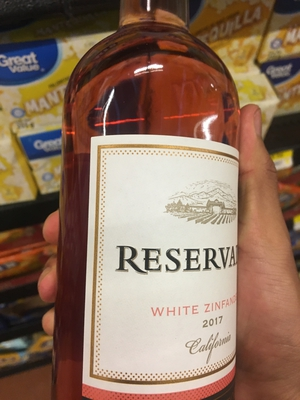reservado white zinfandel: (59, 10, 240, 400)
